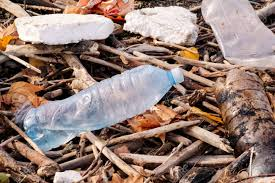Botella: (16, 65, 183, 150)
